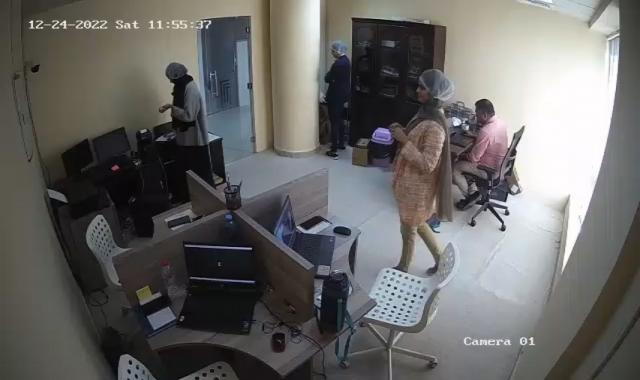hairnet: (416, 66, 454, 110), (163, 61, 187, 84), (330, 41, 348, 60)
no_hairnet: (474, 98, 496, 124)
